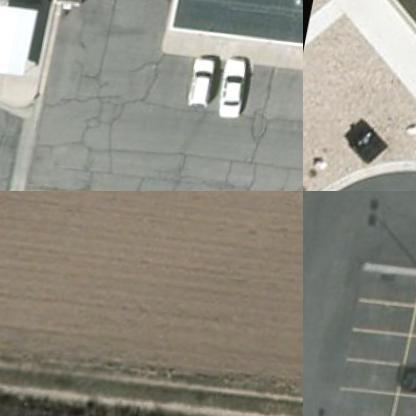car: (213, 60, 251, 121), (184, 55, 217, 110), (401, 355, 415, 410)
